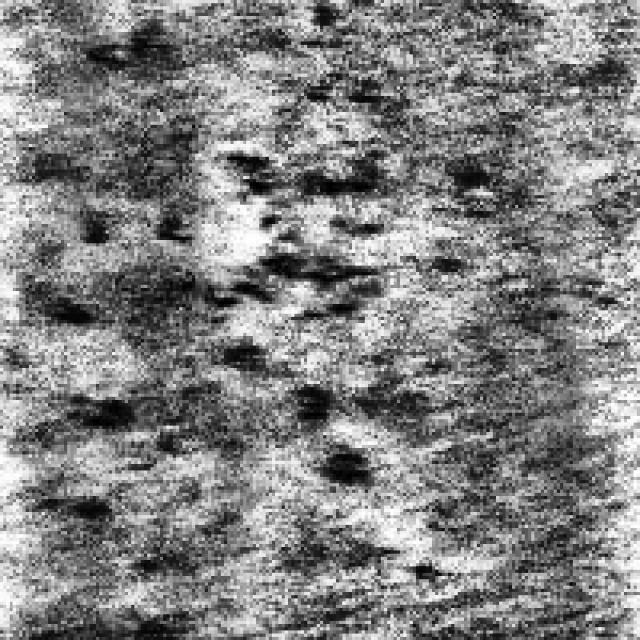Crazing: (180, 112, 406, 490), (45, 202, 189, 528)
